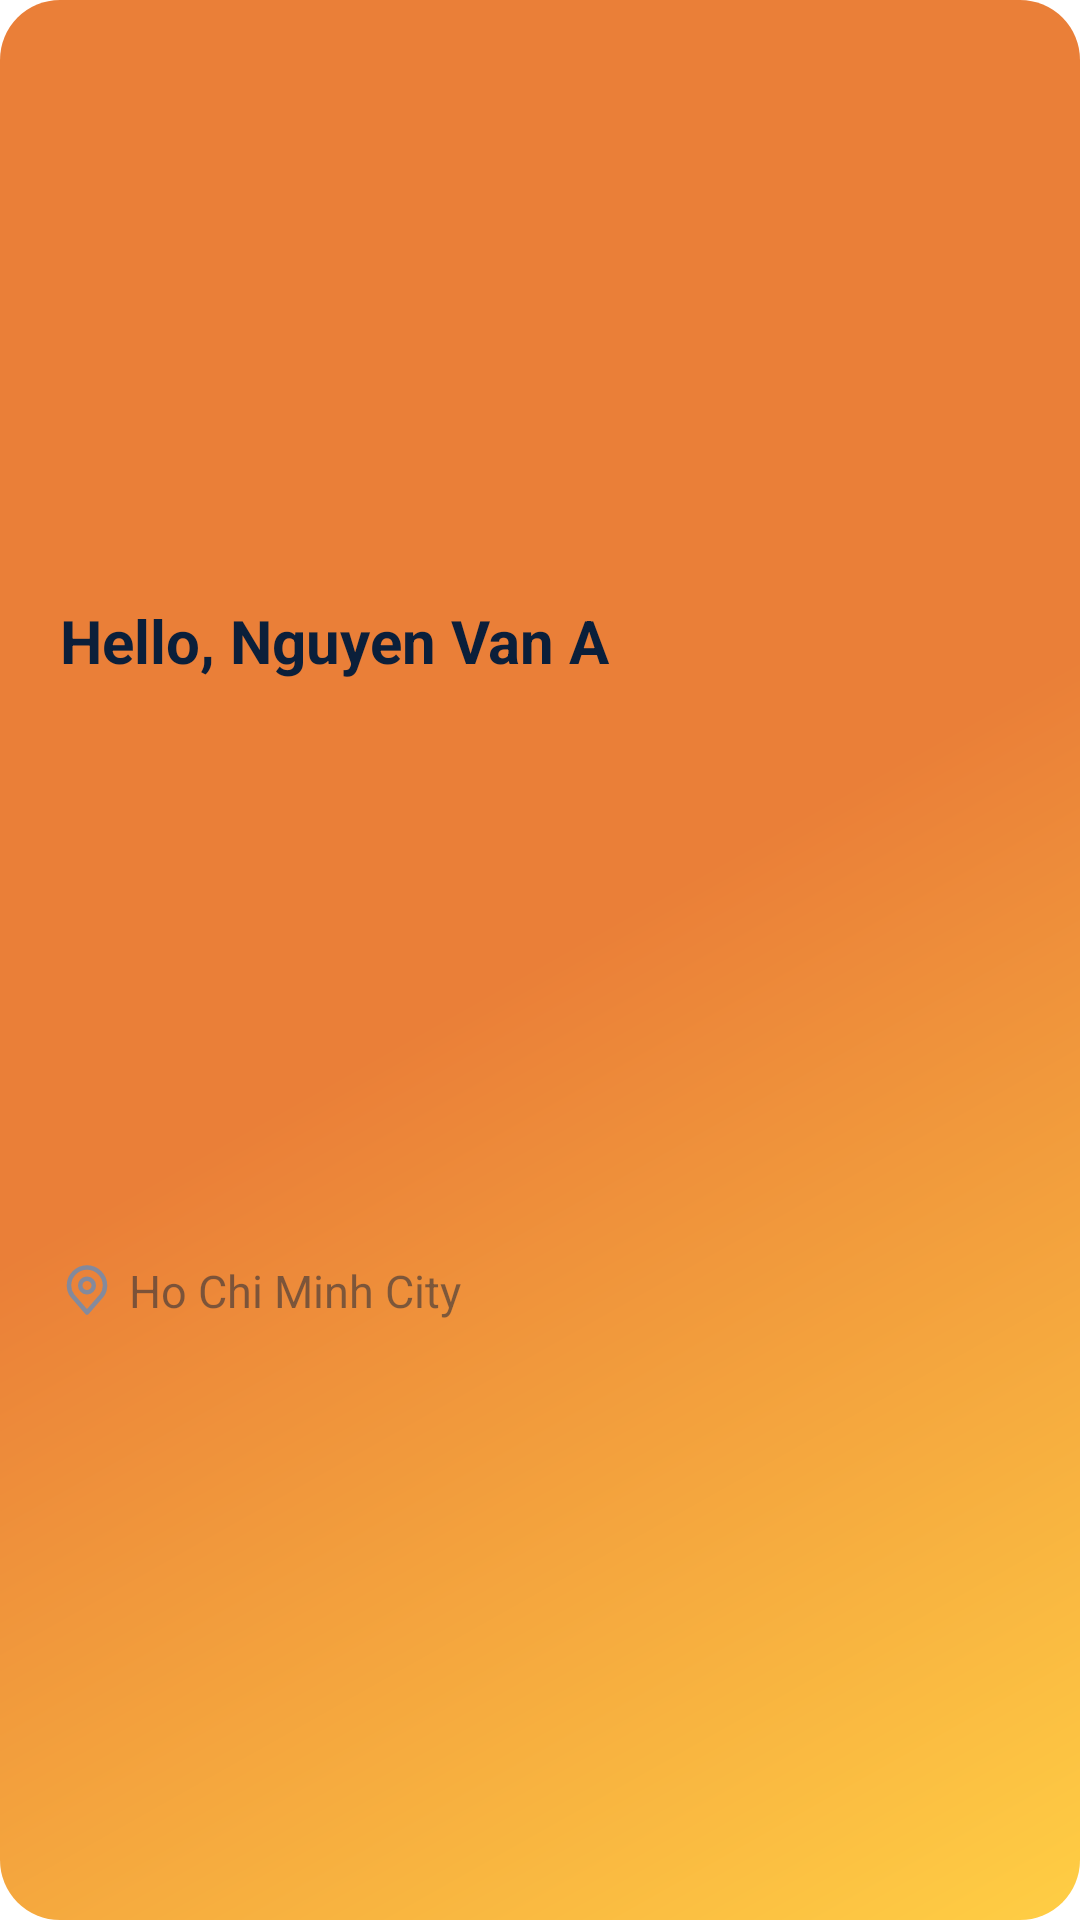

Locate icon controls on the screen. Image size 1080*1920, boxes as box=[x1, y1, x2, y2].
location: box=[66, 1265, 108, 1315]
